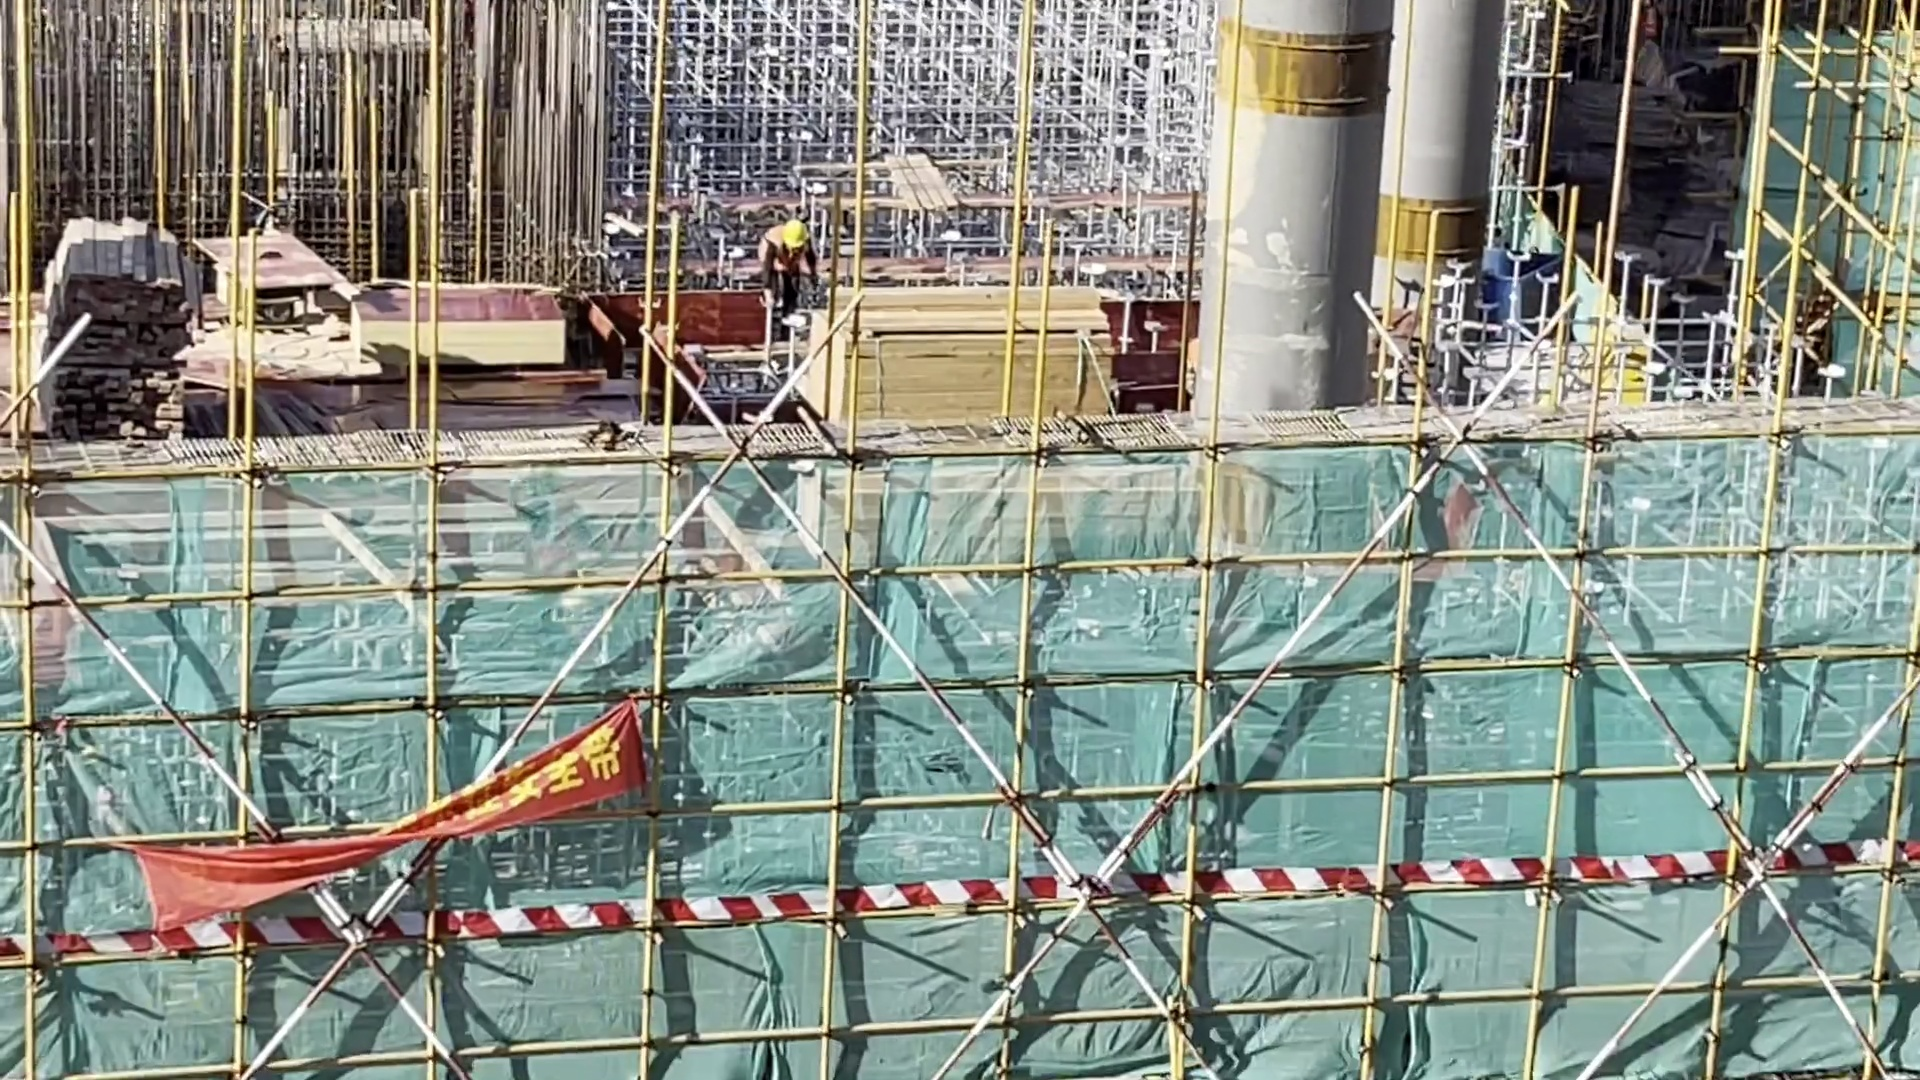helmet: (774, 215, 823, 260)
person: (745, 204, 829, 342)
slogan: (65, 677, 657, 932)
vest: (753, 225, 800, 277)
wood: (800, 269, 1125, 449), (36, 185, 204, 450)
